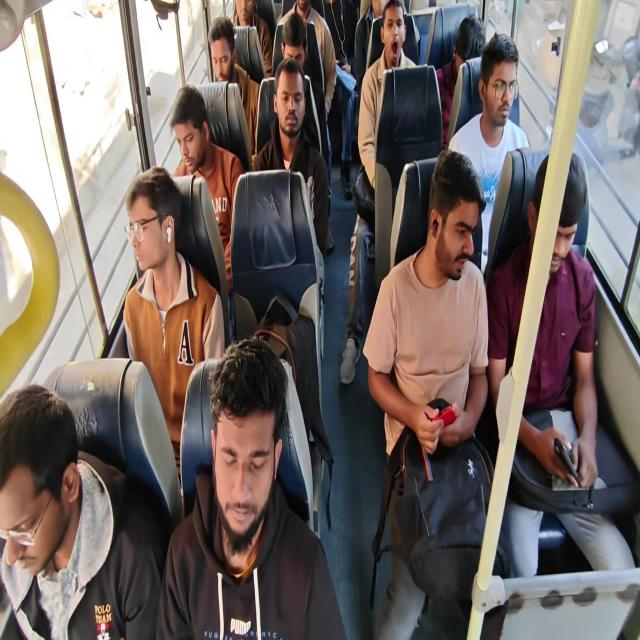person: (202, 342, 294, 543), (1, 387, 86, 587), (422, 136, 481, 291), (531, 143, 597, 281), (123, 162, 179, 283), (476, 31, 520, 130), (167, 77, 214, 169), (443, 11, 490, 67), (272, 62, 308, 135), (278, 9, 310, 72), (208, 15, 235, 83), (378, 0, 403, 69)
